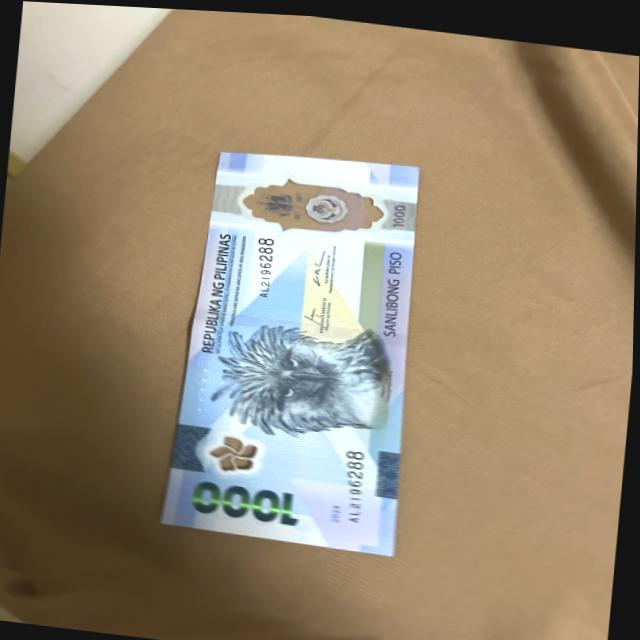clear_window: (235, 170, 386, 234)
eagle: (210, 314, 399, 428)
sampaguita: (204, 430, 259, 475)
